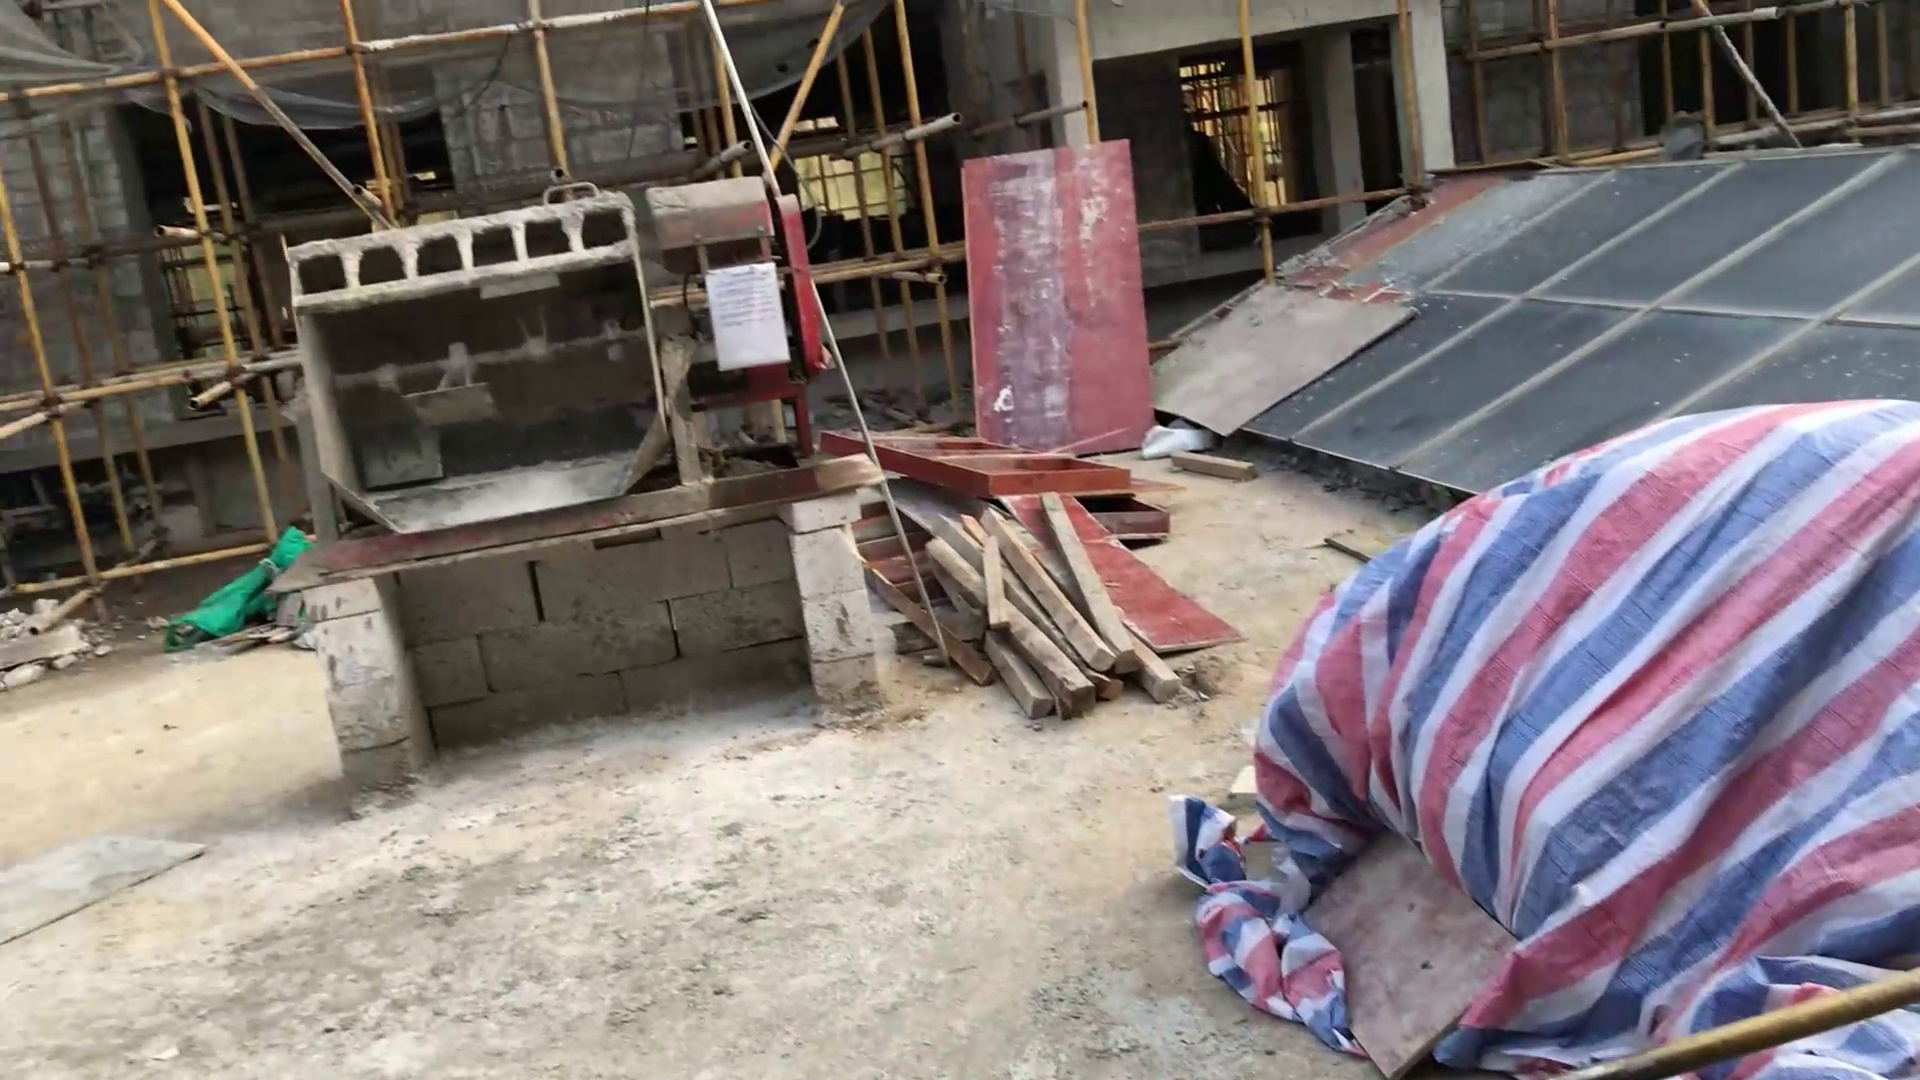wood: (922, 506, 1203, 717)
